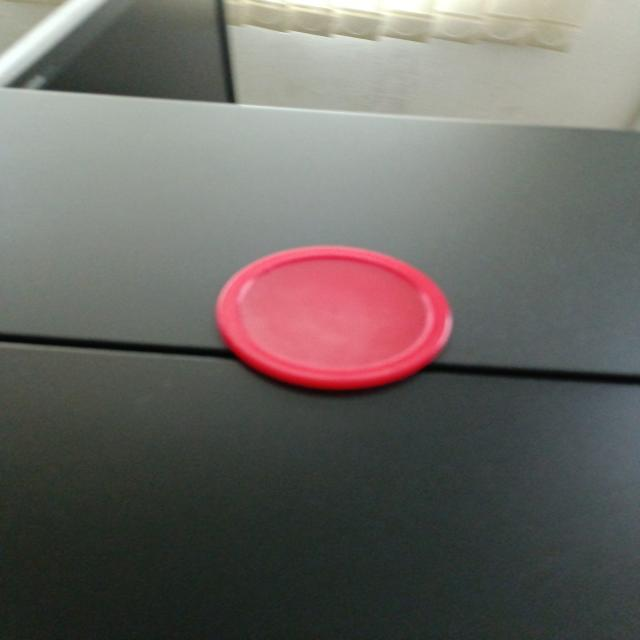chip: (211, 242, 454, 392)
